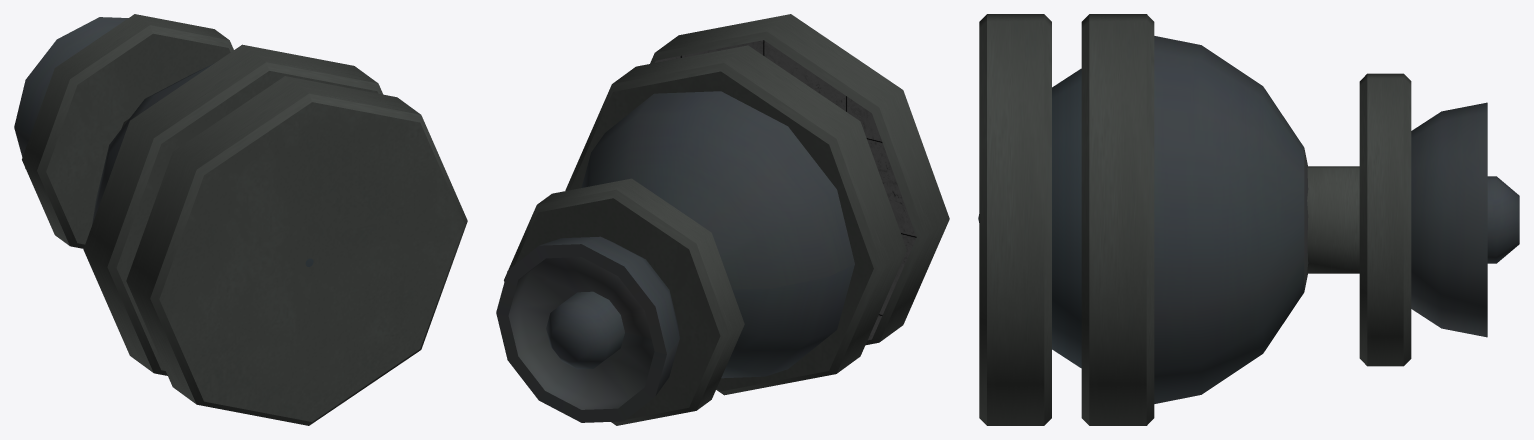
Rendered from beam_generator.fbx.
The picture shows the model from 3 angles, left to right: view 1: azimuth 30°, elevation 25°; view 2: azimuth 150°, elevation 25°; view 3: azimuth 270°, elevation 25°; orthographic projection. The views are drawn at different scales.
Parts seen in each view (by area): view 1: Sphere.001; view 2: Sphere.001; view 3: Sphere.001.
Part boxes in pixels (x1,y1,x2,y2): Sphere.001: (14, 14, 467, 425); Sphere.001: (496, 14, 949, 425); Sphere.001: (978, 14, 1519, 425).
Bounding box in the file's own units: 145 × 145 × 179.
